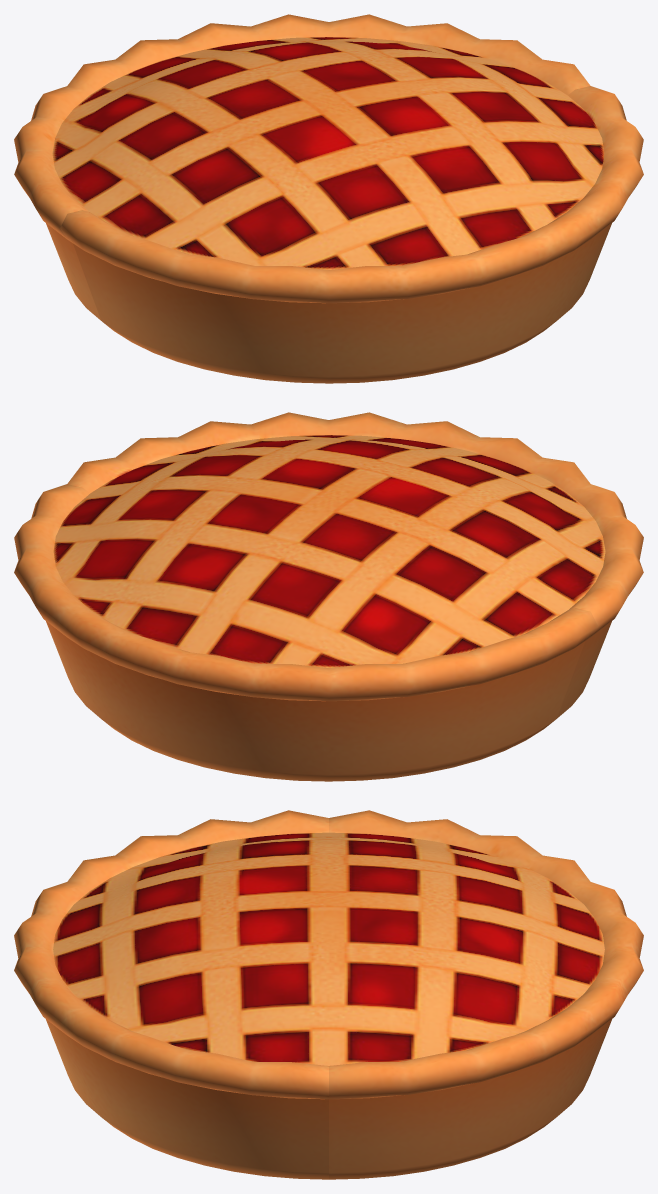
The model's file is CherryPie_1.fbx.
3 views of the same model, one above another, from view 1: azimuth 30°, elevation 25°; view 2: azimuth 150°, elevation 25°; view 3: azimuth 270°, elevation 25° (orthographic).
Visible parts, largest first — view 1: CherryPie_1; view 2: CherryPie_1; view 3: CherryPie_1.
Boxes of the visible parts, x1,y1,x2,y2 form: CherryPie_1: (14,14,643,383); CherryPie_1: (14,412,643,781); CherryPie_1: (14,810,643,1179).
Bounding box in the file's own units: 95.58 × 29.41 × 95.58.
1 material, 1 textured.
